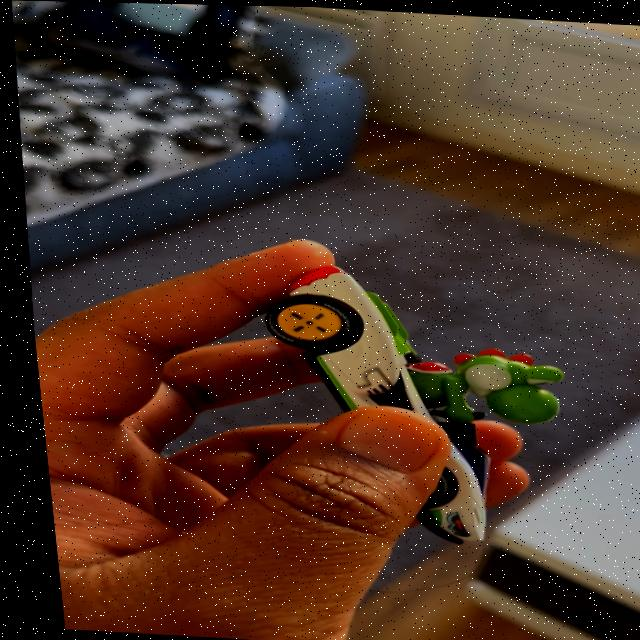yoshi: (235, 251, 594, 564)
